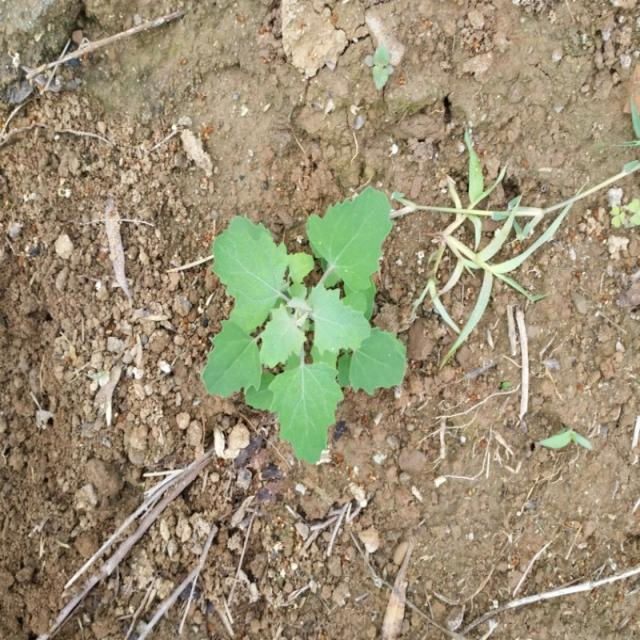ca: (203, 187, 407, 472)
